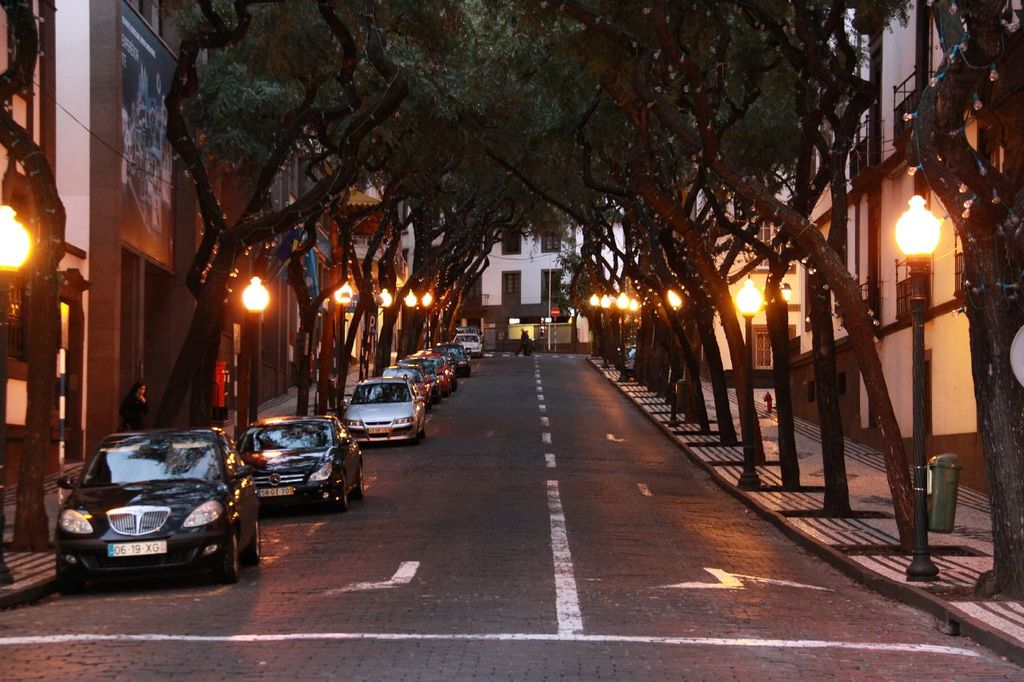Car: (55, 319, 483, 597)
